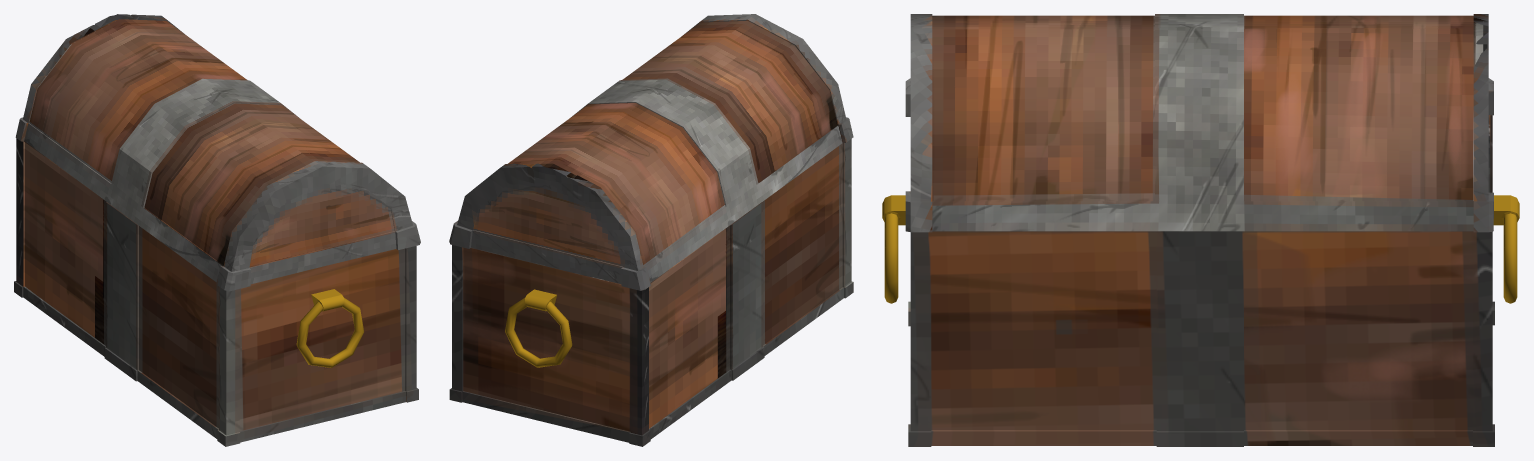
Rendered from coffre_fermer.fbx.
3 renders of one model, left to right at view 1: azimuth 30°, elevation 25°; view 2: azimuth 150°, elevation 25°; view 3: azimuth 270°, elevation 25°, orthographic. The views are drawn at different scales.
Parts seen in each view (by area): view 1: Cylinder001, Box001, Torus001; view 2: Cylinder001, Box001, Torus001; view 3: Cylinder001, Box001, Torus001.
Part boxes in pixels (bbox=[...]): Cylinder001: bbox=[15, 14, 420, 291]; Box001: bbox=[14, 138, 418, 446]; Torus001: bbox=[296, 289, 363, 367]; Cylinder001: bbox=[449, 14, 853, 290]; Box001: bbox=[449, 139, 853, 446]; Torus001: bbox=[505, 289, 572, 367]; Cylinder001: bbox=[905, 14, 1493, 232]; Box001: bbox=[908, 115, 1494, 446]; Torus001: bbox=[882, 195, 1519, 303].
Bounding box in the file's own units: 41.06 × 50.9 × 82.96.
